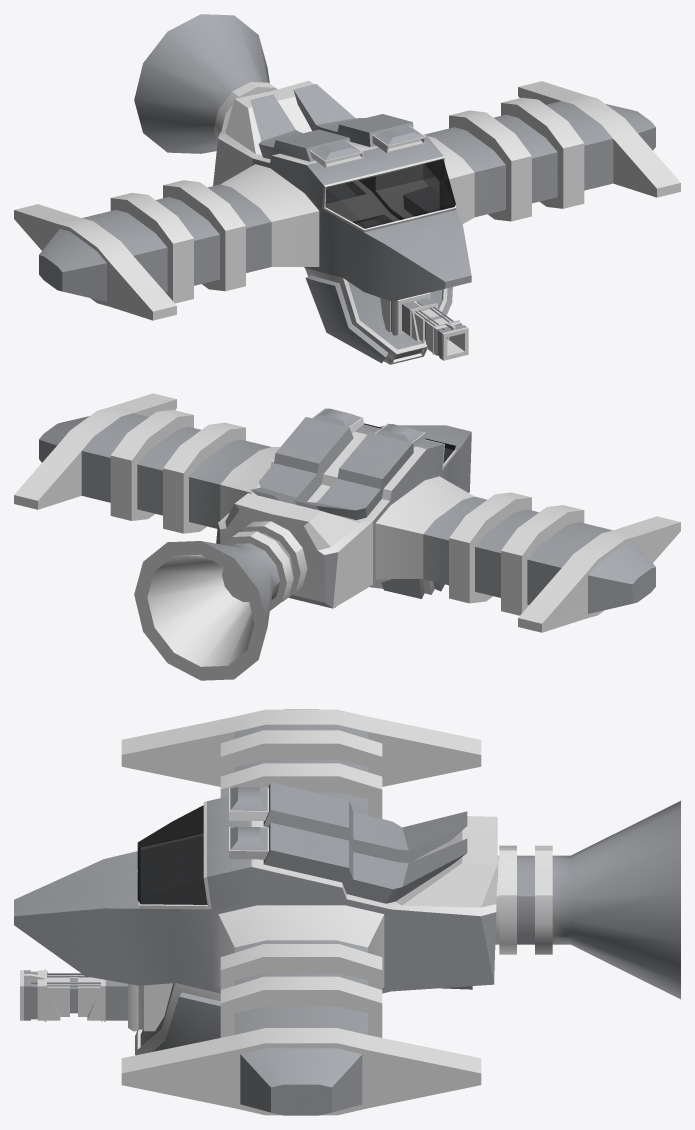
File: CDB.fbx
The picture shows the model from 3 angles, top to bottom: view 1: azimuth 30°, elevation 25°; view 2: azimuth 150°, elevation 25°; view 3: azimuth 270°, elevation 25°; orthographic projection. The views are drawn at different scales.
Visible parts, largest first — view 1: CDB; view 2: CDB; view 3: CDB.
Boxes of the visible parts, left/top/right/bottom form: CDB: left=14, top=14, right=680, bottom=364; CDB: left=14, top=393, right=680, bottom=680; CDB: left=14, top=709, right=680, bottom=1115.
Size of the model in its own units: 8.9 by 2.84 by 6.68.
